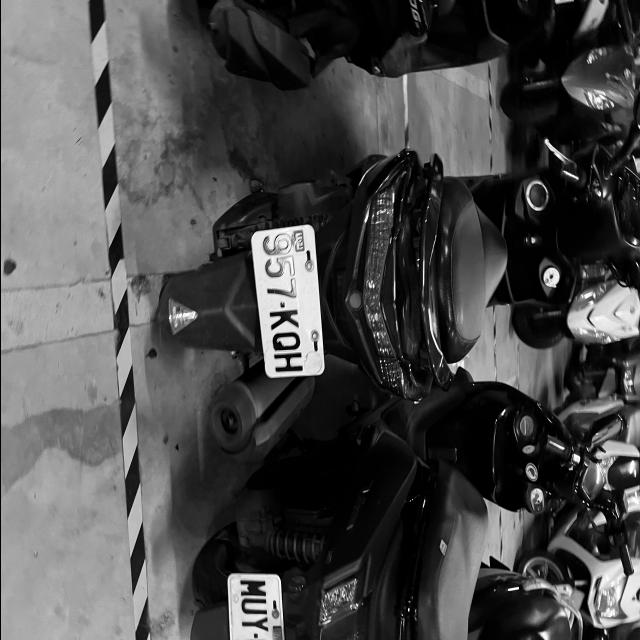-: (278, 301, 286, 310), (252, 632, 258, 640)
5: (264, 255, 294, 279)
7: (266, 278, 298, 300)
9: (262, 230, 291, 256)
H: (274, 351, 302, 373)
K: (269, 308, 300, 330)
M: (240, 579, 266, 597)
Q: (272, 330, 300, 352)
U: (240, 598, 268, 614)
Y: (240, 616, 268, 632)
plate: (264, 226, 318, 378)
